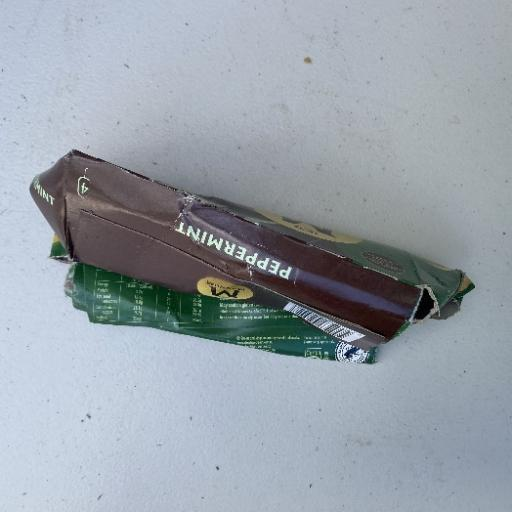Cardboard: (28, 146, 475, 366)
